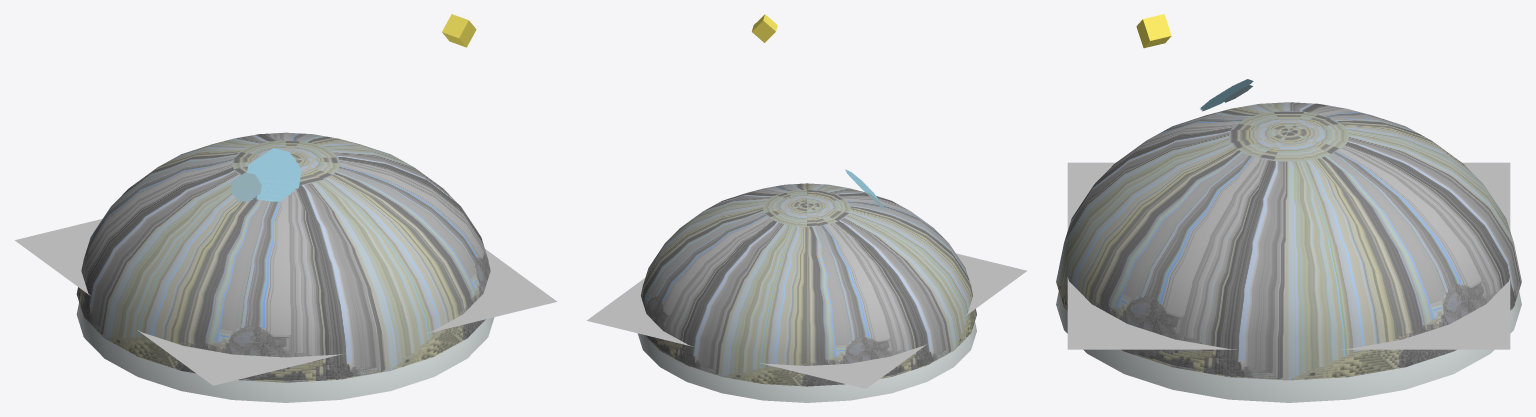
Rendered from SKY_SYSTEM #1203702.fbx.
3 renders of one model, left to right at view 1: azimuth 30°, elevation 25°; view 2: azimuth 150°, elevation 25°; view 3: azimuth 270°, elevation 25°, orthographic. The views are drawn at different scales.
Visible parts, largest first — view 1: sky_02_M, Ground_Big, sky_02, Planet, SUN; view 2: sky_02_M, Ground_Big, sky_02, SUN; view 3: sky_02_M, Ground_Big, sky_02, SUN, Planet.
Boxes of the visible parts, x1,y1,x2,y2 form: sky_02_M: (76,132,490,382); Ground_Big: (15,219,557,385); sky_02: (76,302,494,402); Planet: (230,148,301,201); SUN: (442,14,476,47); sky_02_M: (641,183,976,386); Ground_Big: (586,253,1027,388); sky_02: (637,322,976,402); SUN: (752,14,777,42); sky_02_M: (1056,102,1521,380); Ground_Big: (1067,162,1510,349); sky_02: (1056,291,1521,402); SUN: (1136,14,1171,48); Planet: (1200,79,1253,111).
Size of the model in its own units: 2106 by 1747 by 2106.
